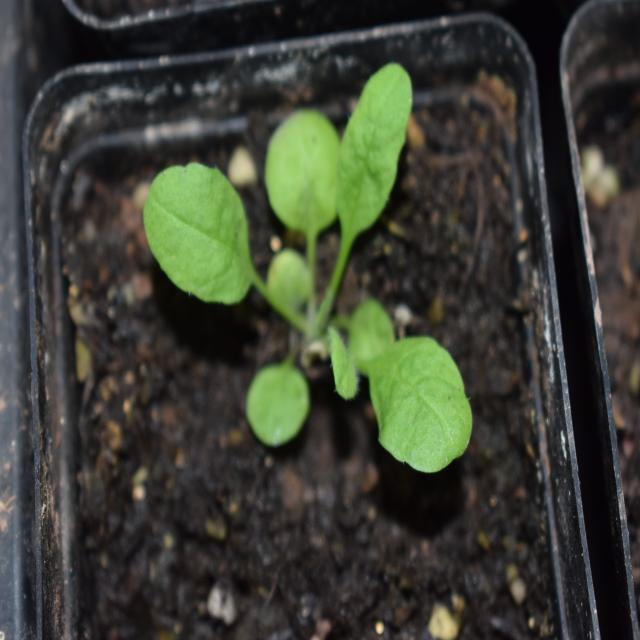Shepherd_Purse: (127, 53, 464, 470)
